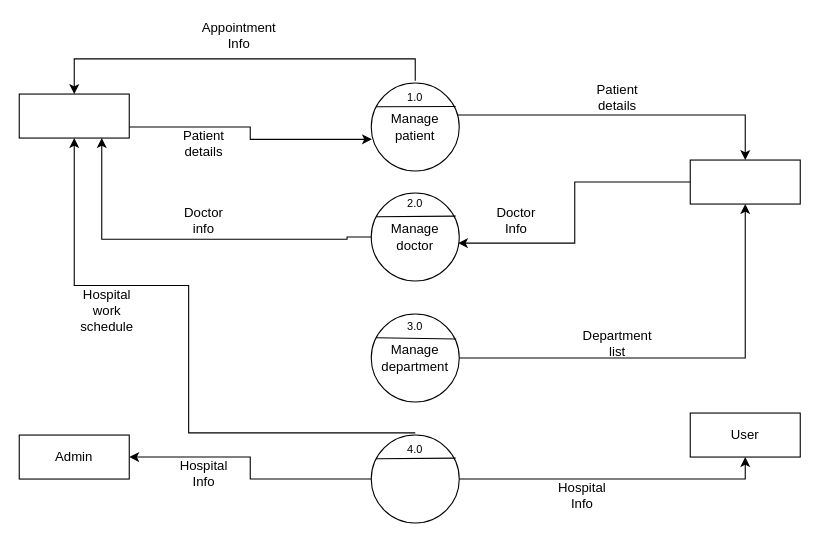
Image size: 820x542. Some labels were removed from this diagram. Here are the shapes that lost their labels. From the top down, the box of each, then its label:
(18, 93, 129, 138): Patient
(689, 159, 800, 204): Doctor
(370, 434, 459, 523): Manage hospital info
